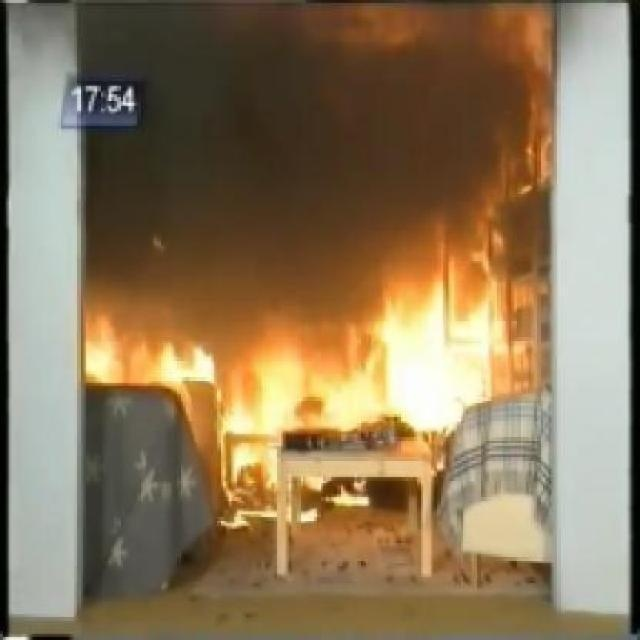fire: (103, 274, 516, 412)
smoke: (82, 4, 542, 290)
